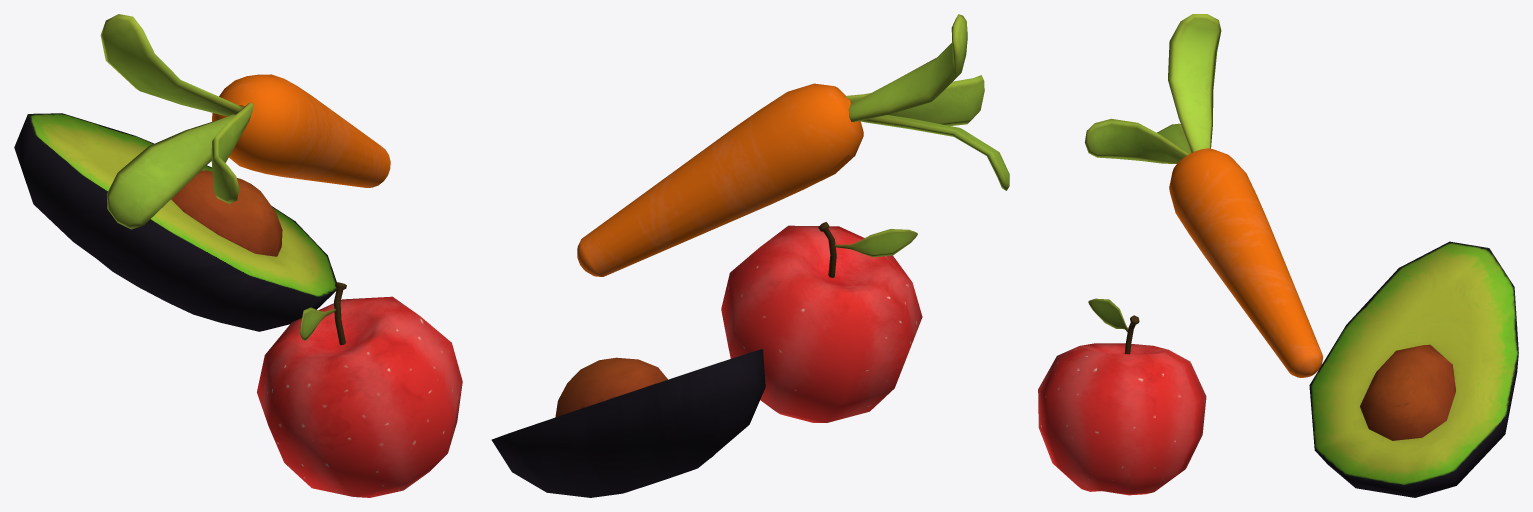
The model's file is food_group.glb.
3 views of the same model, side by side, from view 1: azimuth 30°, elevation 25°; view 2: azimuth 150°, elevation 25°; view 3: azimuth 270°, elevation 25° (orthographic). The views are drawn at different scales.
Parts seen in each view (by area): view 1: Avocado, Apple, Carrot; view 2: Carrot, Apple, Avocado; view 3: Avocado, Carrot, Apple.
Boxes of the visible parts, x1,y1,x2,y2 form: Avocado: (14, 113, 336, 331); Apple: (257, 282, 462, 497); Carrot: (100, 14, 390, 229); Carrot: (577, 14, 1009, 276); Apple: (721, 222, 922, 422); Avocado: (491, 349, 765, 497); Avocado: (1309, 241, 1518, 497); Carrot: (1085, 14, 1322, 377); Apple: (1038, 298, 1206, 495).
Size of the model in its own units: 0.1831 by 0.2357 by 0.2559.
1 material, 1 textured.
